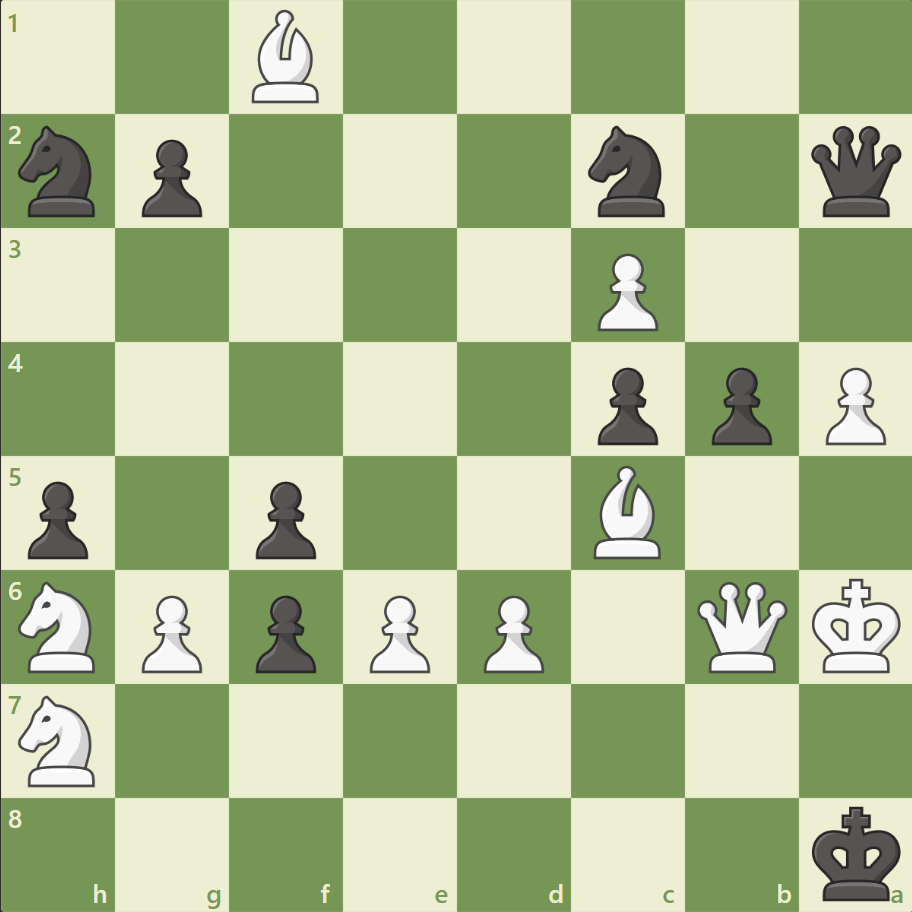B: (585, 460, 669, 563), (244, 6, 328, 109)
K: (806, 571, 906, 679)
N: (11, 688, 108, 791), (11, 575, 108, 677)
P: (474, 586, 549, 677), (133, 586, 208, 677), (361, 586, 435, 677), (815, 359, 889, 450), (588, 246, 662, 337)
Q: (691, 576, 790, 676)
k: (806, 798, 906, 906)
n: (579, 121, 676, 223), (11, 121, 108, 223)
p: (247, 586, 322, 677), (247, 473, 322, 564), (20, 473, 95, 564), (701, 359, 776, 450), (133, 132, 208, 223), (588, 359, 662, 450)
q: (805, 122, 904, 222)
